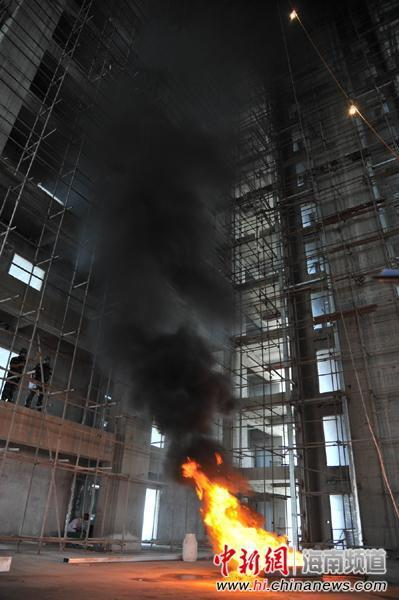fire: (145, 427, 348, 591)
